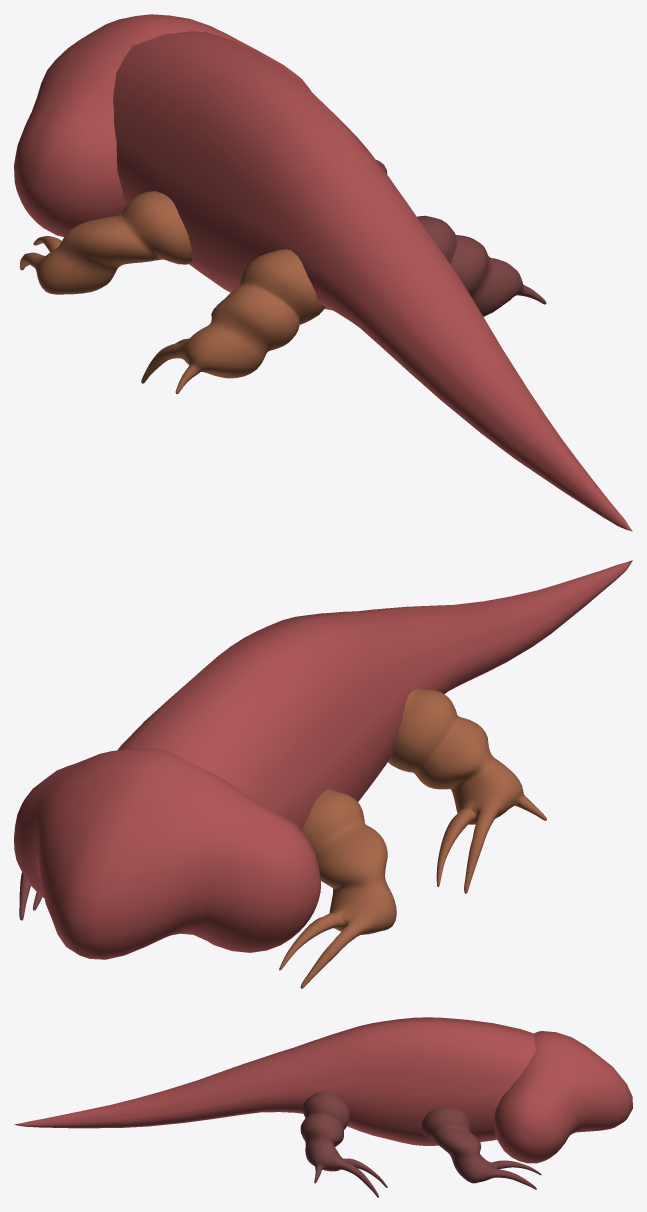
The model's file is Tegu_UV003.fbx.
The picture shows the model from 3 angles, top to bottom: view 1: azimuth 30°, elevation 25°; view 2: azimuth 150°, elevation 25°; view 3: azimuth 270°, elevation 25°; orthographic projection. The views are drawn at different scales.
Parts seen in each view (by area): view 1: polySurface49; view 2: polySurface49; view 3: polySurface49.
Part boxes in pixels (box(x1,y1,x2,y2)): polySurface49: box(14, 14, 632, 531); polySurface49: box(14, 560, 632, 988); polySurface49: box(14, 1017, 632, 1197).
Size of the model in its own units: 2.43 by 1.48 by 6.34.
